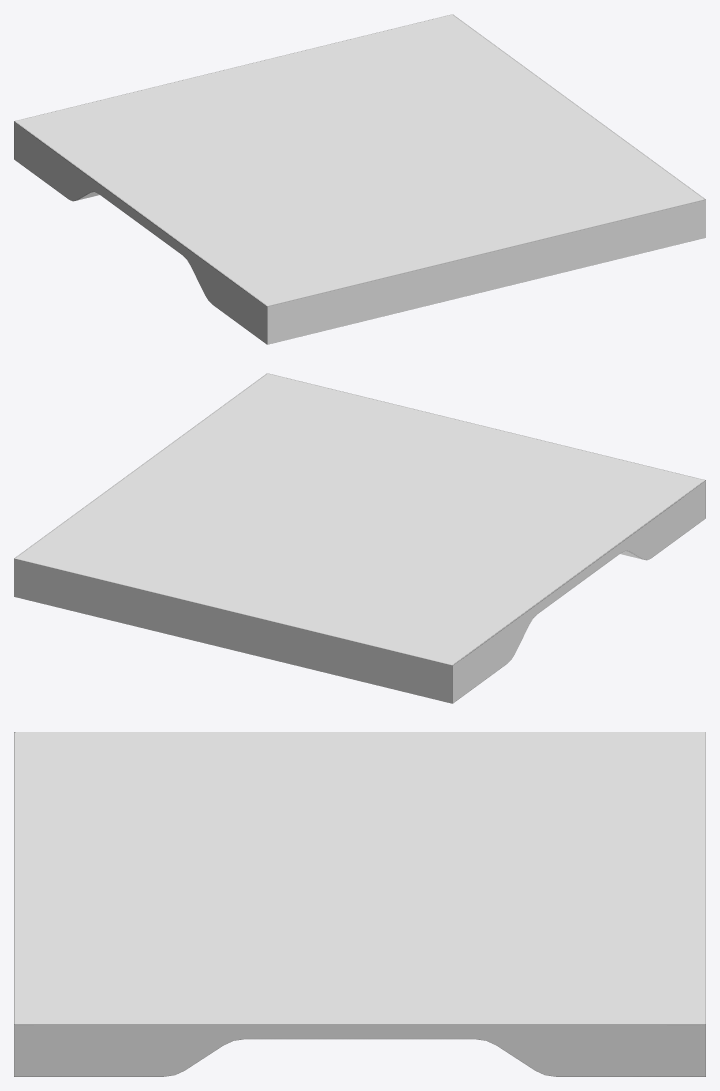
The model's file is Roof_Light_02.FBX.
3 views of the same model, one above another, from view 1: azimuth 30°, elevation 25°; view 2: azimuth 150°, elevation 25°; view 3: azimuth 270°, elevation 25° (orthographic). The views are drawn at different scales.
Visible parts, largest first — view 1: Roof_Light_02; view 2: Roof_Light_02; view 3: Roof_Light_02.
Boxes of the visible parts, bbox=[...] form: Roof_Light_02: bbox=[14, 14, 705, 344]; Roof_Light_02: bbox=[14, 373, 705, 703]; Roof_Light_02: bbox=[14, 732, 705, 1076].
Size of the model in its own units: 12 by 1 by 12.
